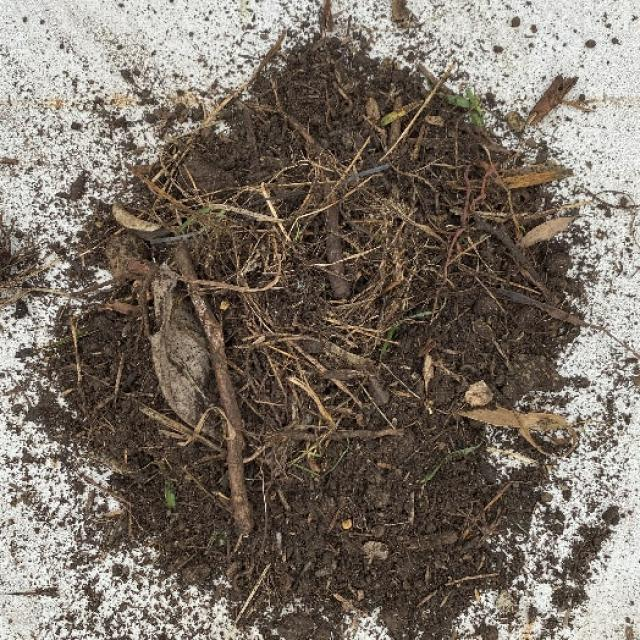organik: (145, 46, 469, 548)
